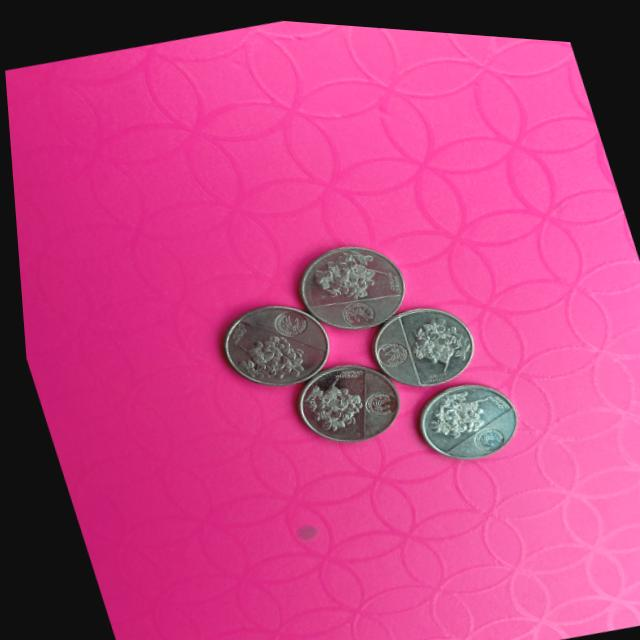1_New_Back: (409, 372, 498, 440), (313, 236, 388, 304), (289, 362, 363, 429), (233, 321, 311, 383), (399, 304, 467, 371)
